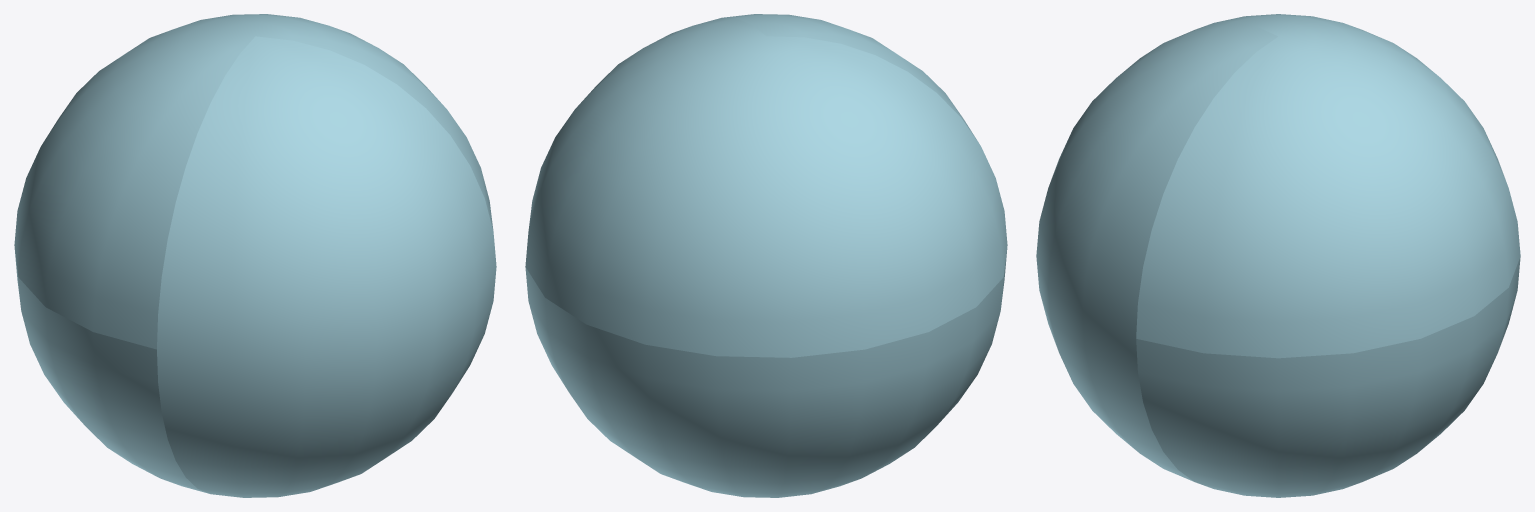
The model's file is split3.glb.
3 renders of one model, left to right at view 1: azimuth 30°, elevation 25°; view 2: azimuth 150°, elevation 25°; view 3: azimuth 270°, elevation 25°, orthographic.
Parts seen in each view (by area): view 1: sidish, topish, bottom; view 2: topish, bottom, sidish; view 3: topish, bottom, sidish.
Boxes of the visible parts, x1,y1,x2,y2 form: sidish: (157,36,496,497); topish: (14,14,493,349); bottom: (14,249,208,493); topish: (525,17,1007,357); bottom: (525,249,1007,497); sidish: (724,14,978,142); topish: (1136,14,1520,358); bottom: (1136,256,1520,497); sidish: (1036,21,1277,481).
Size of the model in its own units: 0.02 by 0.02 by 0.02.
